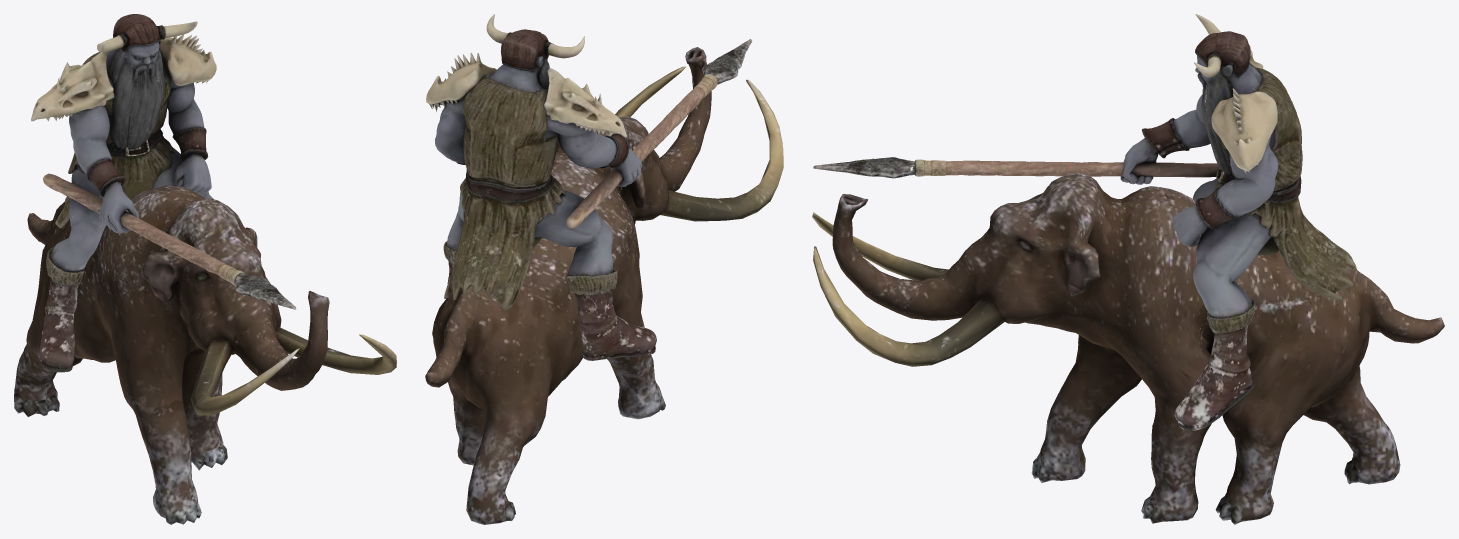
Rendered from MZ4250 - Frost Giant on Mammoth.glb.
3 renders of one model, left to right at view 1: azimuth 30°, elevation 25°; view 2: azimuth 150°, elevation 25°; view 3: azimuth 270°, elevation 25°, orthographic. The views are drawn at different scales.
Parts seen in each view (by area): view 1: Mammoth t.001; view 2: Mammoth t.001; view 3: Mammoth t.001.
Part boxes in pixels (left/top/right/bottom): Mammoth t.001: left=14, top=14, right=396, bottom=524; Mammoth t.001: left=425, top=14, right=783, bottom=524; Mammoth t.001: left=812, top=14, right=1444, bottom=524.
Size of the model in its own units: 130 by 257 by 318.
2 materials, 2 textured.
